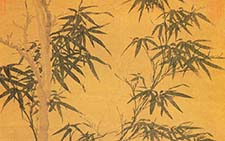bamboo: (123, 1, 216, 141), (1, 9, 112, 117)
